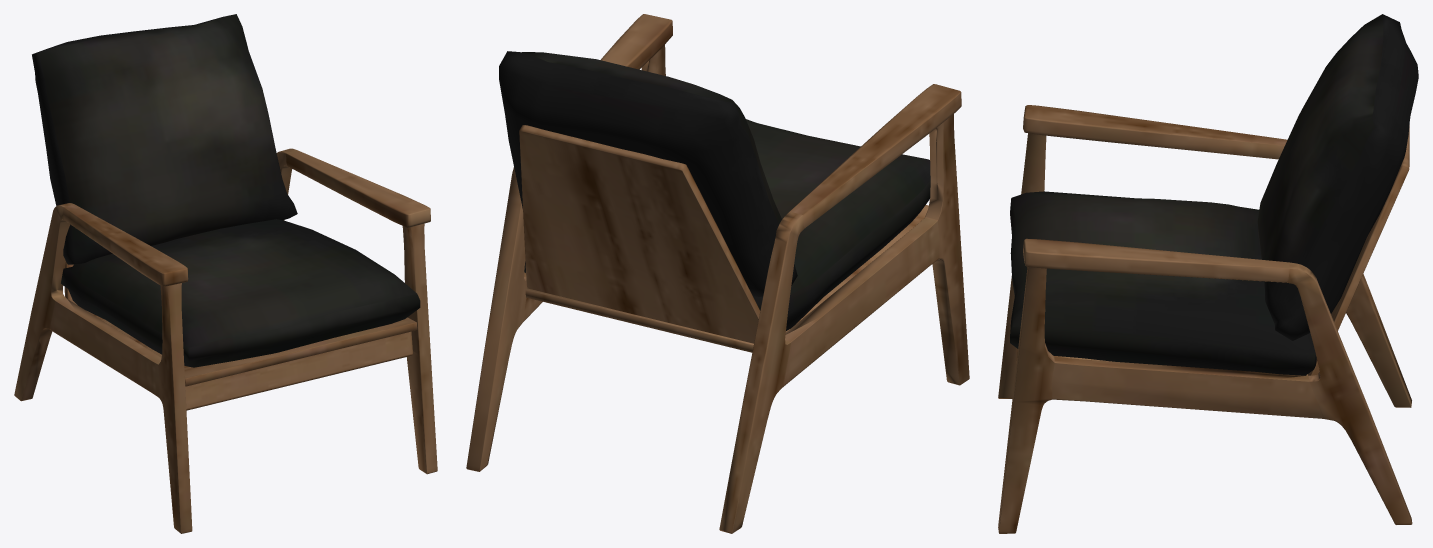
File: modern_arm_chair_01.lod1.glb
3 renders of one model, left to right at view 1: azimuth 30°, elevation 25°; view 2: azimuth 150°, elevation 25°; view 3: azimuth 270°, elevation 25°, orthographic. The views are drawn at different scales.
Visible parts, largest first — view 1: modern_arm_chair_01; view 2: modern_arm_chair_01; view 3: modern_arm_chair_01.
Boxes of the visible parts, <box> form: modern_arm_chair_01: <box>14,14,437,533</box>; modern_arm_chair_01: <box>466,14,969,533</box>; modern_arm_chair_01: <box>998,14,1418,533</box>.
Bounding box in the file's own units: 0.8204 × 1.02 × 0.9866.
Materials: 2 (2 with a texture image).
